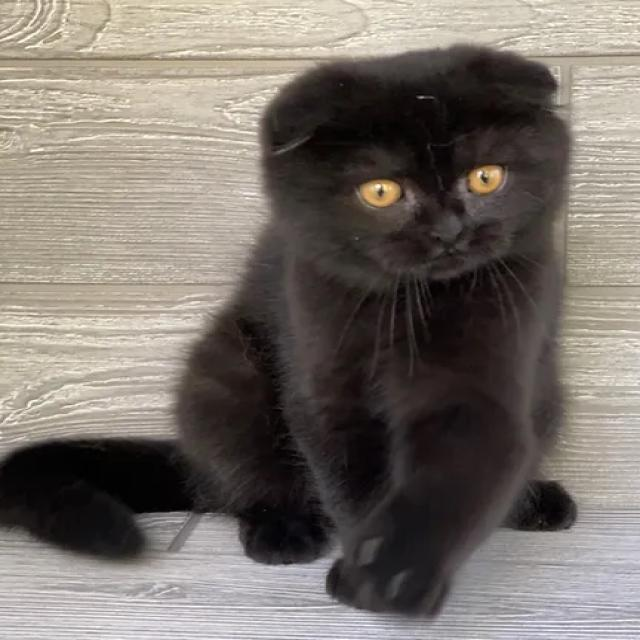Scottish Fold: (0, 37, 584, 621)
